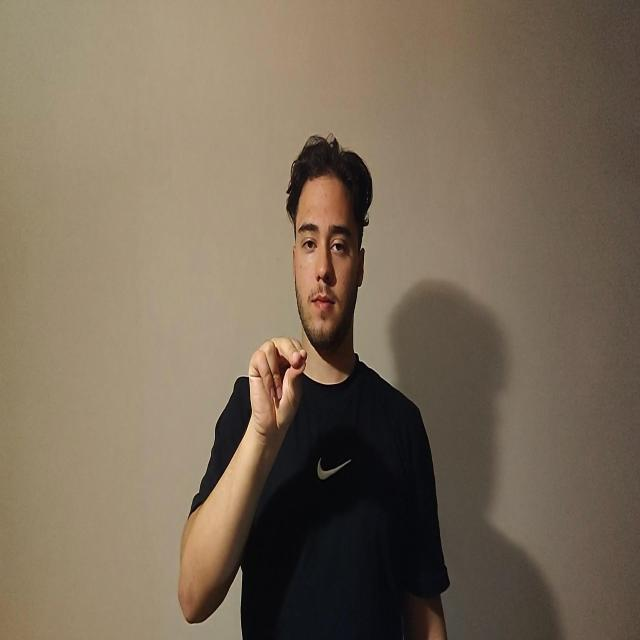no: (248, 336, 307, 444)
